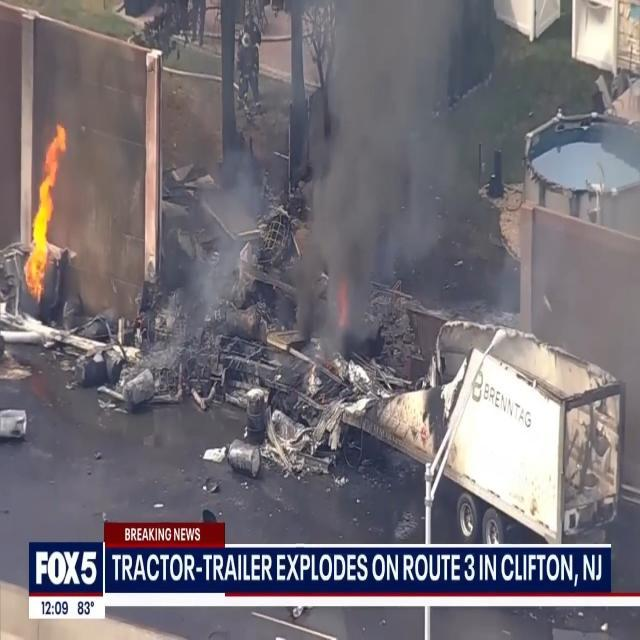fire: (22, 112, 68, 303)
